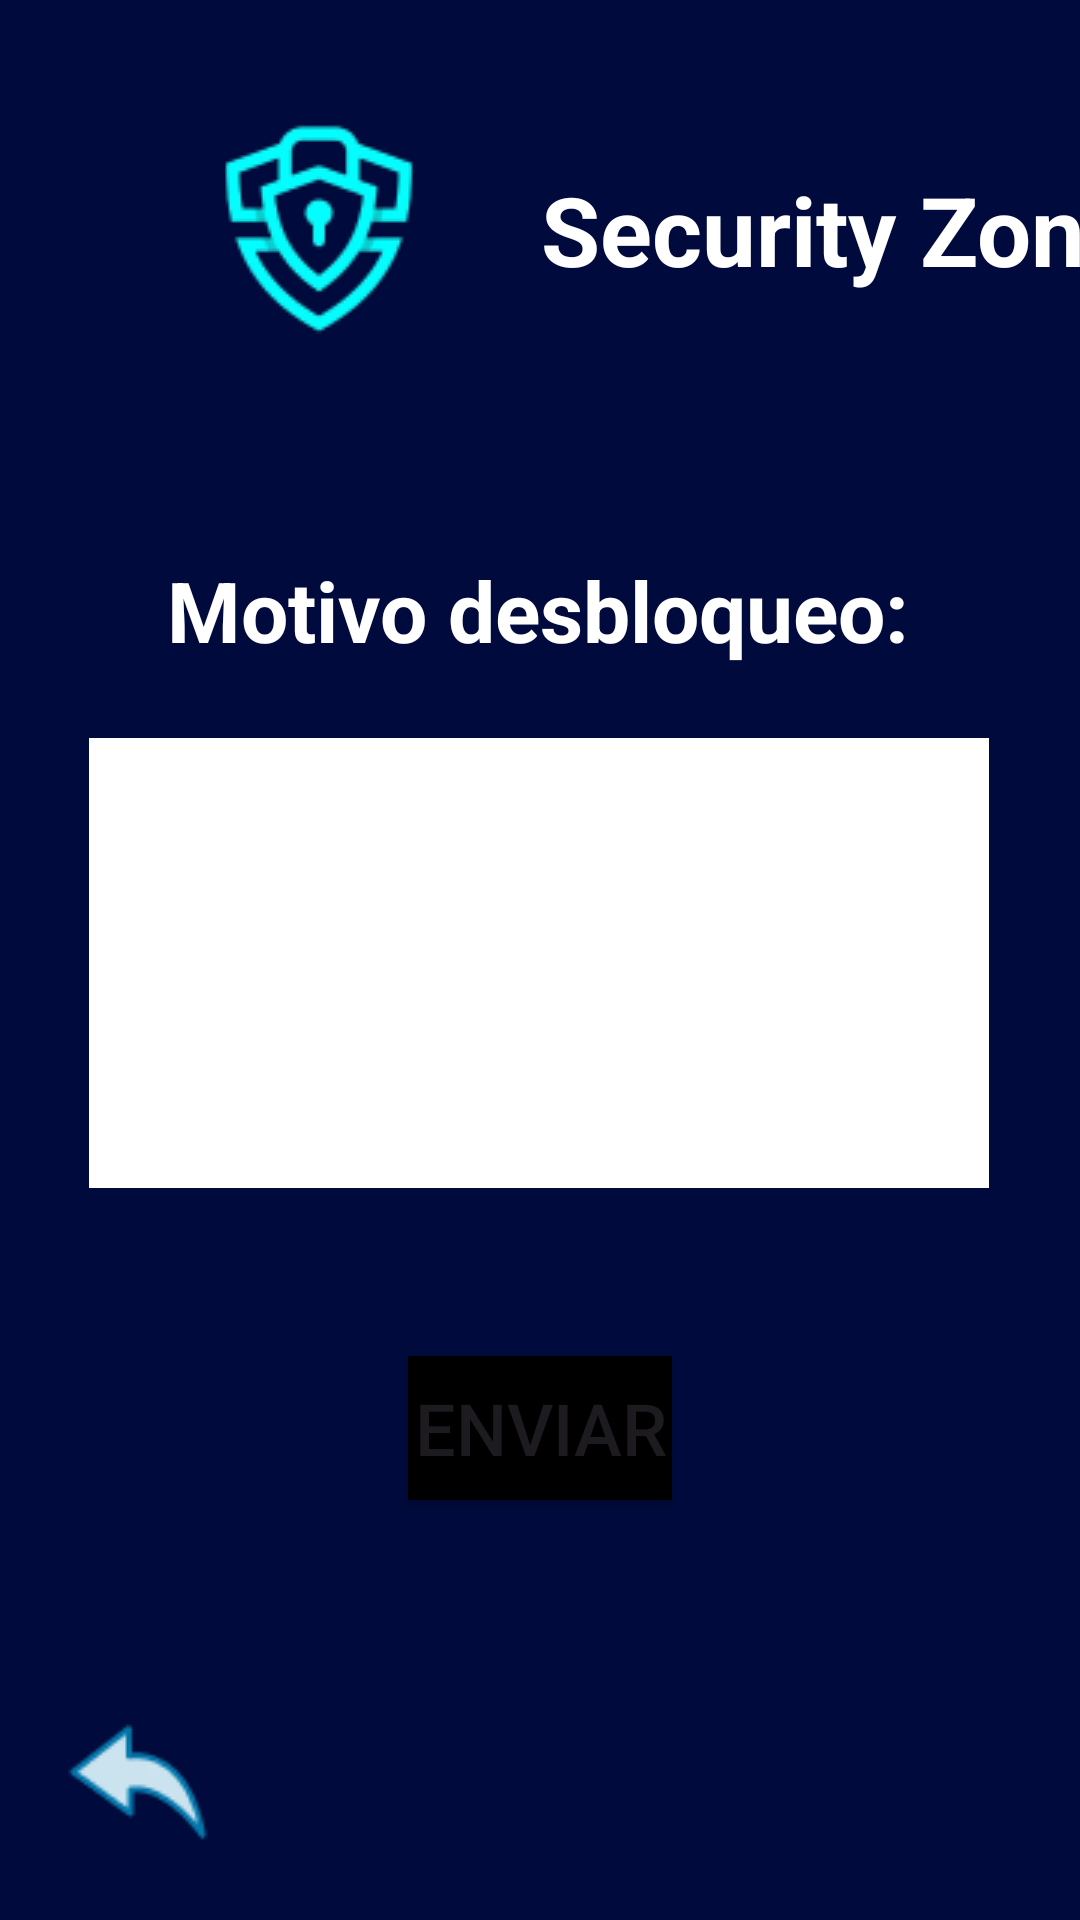

Where icons sit on this 1080 × 1920 app screen, as (x1, y1, x2, y2):
atras: (69, 1725, 207, 1839)
